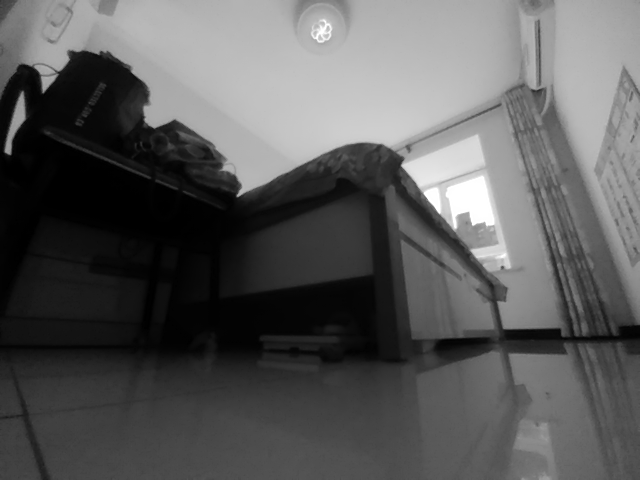curtain: (499, 79, 620, 342)
pet feces: (316, 347, 344, 366), (289, 346, 302, 356)
